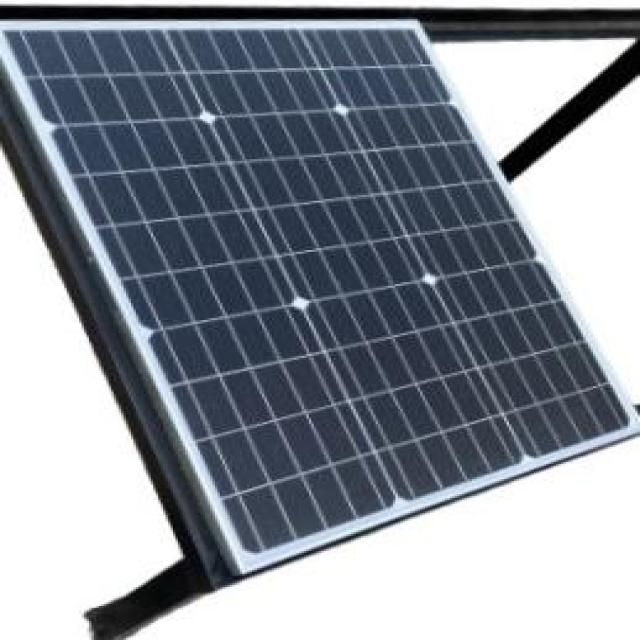clean-solar-panel: (9, 29, 626, 551)
